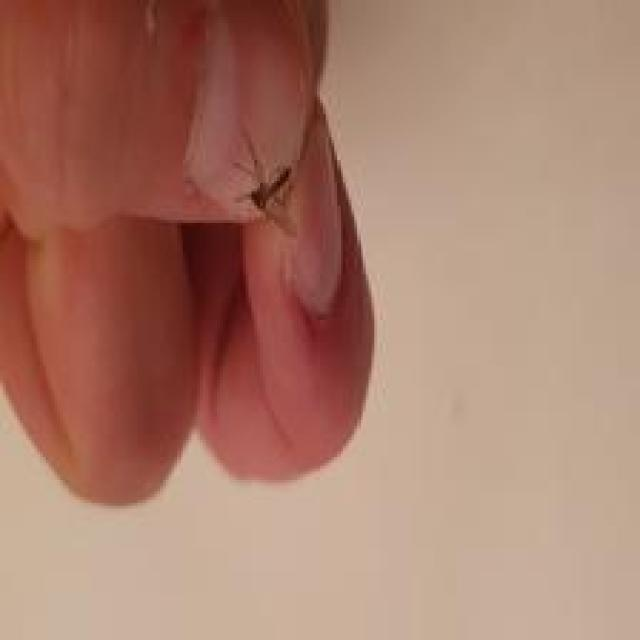Culex: (0, 0, 377, 506)
